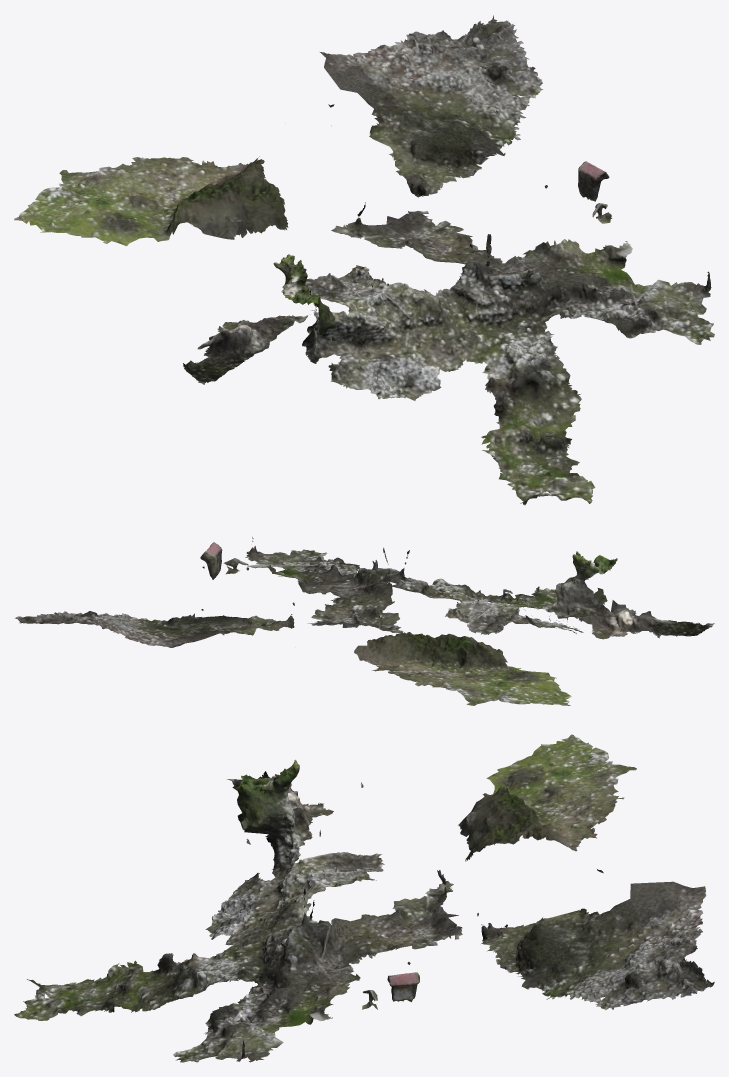
3 views of the same model, one above another, from view 1: azimuth 30°, elevation 25°; view 2: azimuth 150°, elevation 25°; view 3: azimuth 270°, elevation 25° (orthographic). The views are drawn at different scales.
Size of the model in its own units: 30.26 by 9.28 by 33.29.
Materials: 1 (1 with a texture image).
